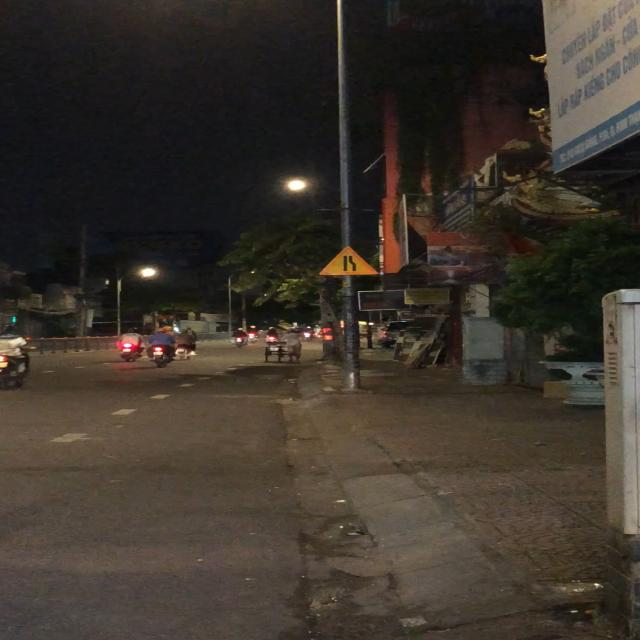Bien bao duong bi thu hep: (319, 245, 378, 277)
